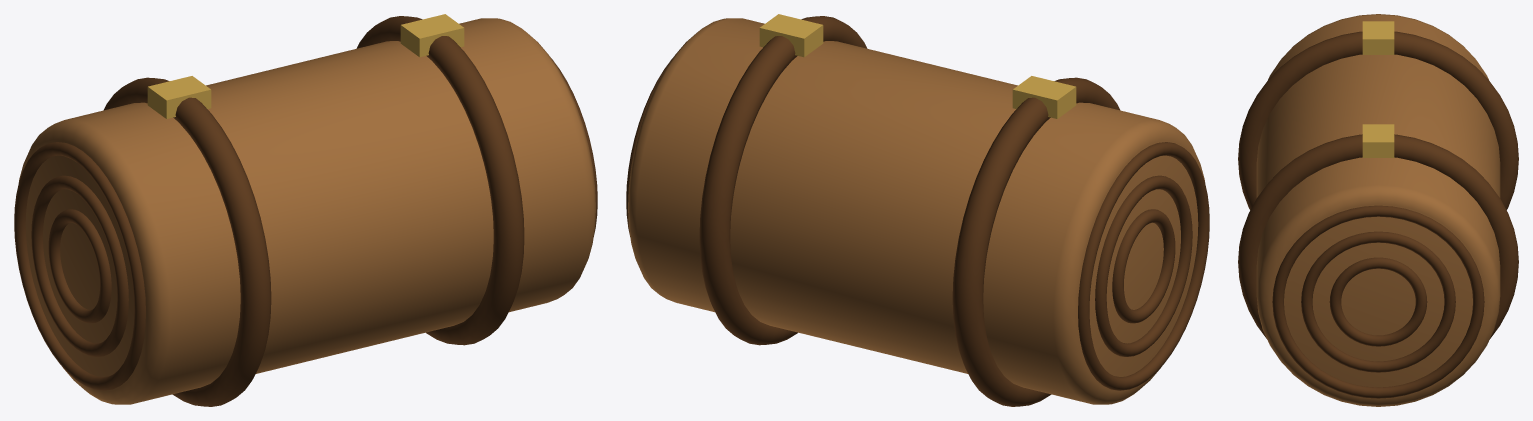
File: leder_weich.glb
3 renders of one model, left to right at view 1: azimuth 30°, elevation 25°; view 2: azimuth 150°, elevation 25°; view 3: azimuth 270°, elevation 25°, orthographic. The views are drawn at different scales.
Parts seen in each view (by area): view 1: Cylinder, Torus.006, Torus.007, Torus, Torus.001, Torus.002, Cube.001, Cube; view 2: Cylinder, Torus.006, Torus.007, Torus, Torus.001, Torus.002, Cube.001, Cube; view 3: Cylinder, Torus.007, Torus.006, Torus.003, Torus.004, Torus.005, Cube, Cube.001.
Part boxes in pixels (box(x1,y1,x2,y2)): Cylinder: box(18, 18, 595, 404); Torus.006: box(103, 77, 271, 406); Torus.007: box(356, 16, 524, 345); Torus: box(14, 142, 145, 390); Torus.001: box(31, 175, 128, 356); Torus.002: box(48, 209, 111, 323); Cube.001: box(400, 14, 464, 57); Cube: box(147, 76, 211, 118); Cylinder: box(628, 18, 1205, 404); Torus.006: box(952, 77, 1120, 406); Torus.007: box(699, 16, 867, 345); Torus: box(1078, 142, 1209, 390); Torus.001: box(1095, 175, 1192, 356); Torus.002: box(1112, 209, 1175, 323); Cube.001: box(759, 14, 823, 57); Cube: box(1012, 76, 1076, 118); Cylinder: box(1256, 14, 1500, 406); Torus.007: box(1238, 134, 1518, 338); Torus.006: box(1238, 31, 1518, 209); Torus.003: box(1272, 205, 1484, 398); Torus.004: box(1301, 231, 1455, 372); Torus.005: box(1329, 257, 1427, 346); Cube: box(1362, 21, 1394, 54); Cube.001: box(1362, 124, 1394, 157).
Size of the model in its own units: 0.31 by 0.197 by 0.196.
